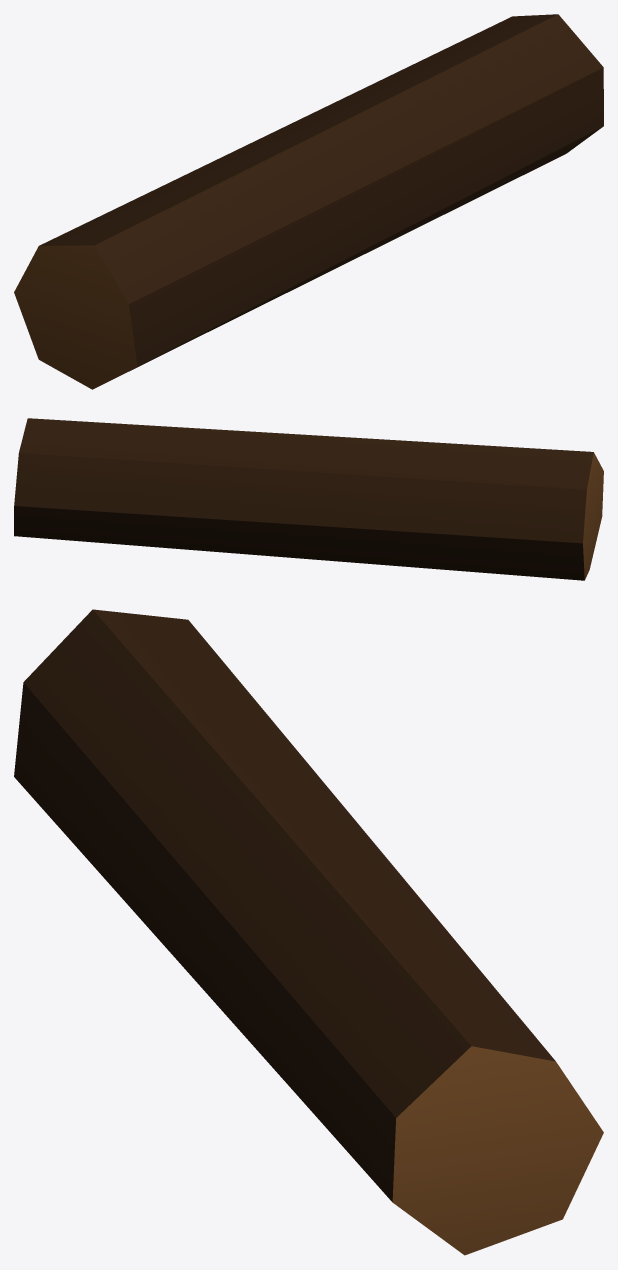
Rendered from log.glb.
The picture shows the model from 3 angles, top to bottom: view 1: azimuth 30°, elevation 25°; view 2: azimuth 150°, elevation 25°; view 3: azimuth 270°, elevation 25°; orthographic projection. The views are drawn at different scales.
Visible parts, largest first — view 1: log; view 2: log; view 3: log.
Part boxes in pixels (x1=…): log: x1=14, y1=14, x2=603, y2=389; log: x1=14, y1=418, x2=603, y2=580; log: x1=14, y1=609, x2=603, y2=1255.
Bounding box in the file's own units: 0.7101 × 0.1552 × 0.3814.
